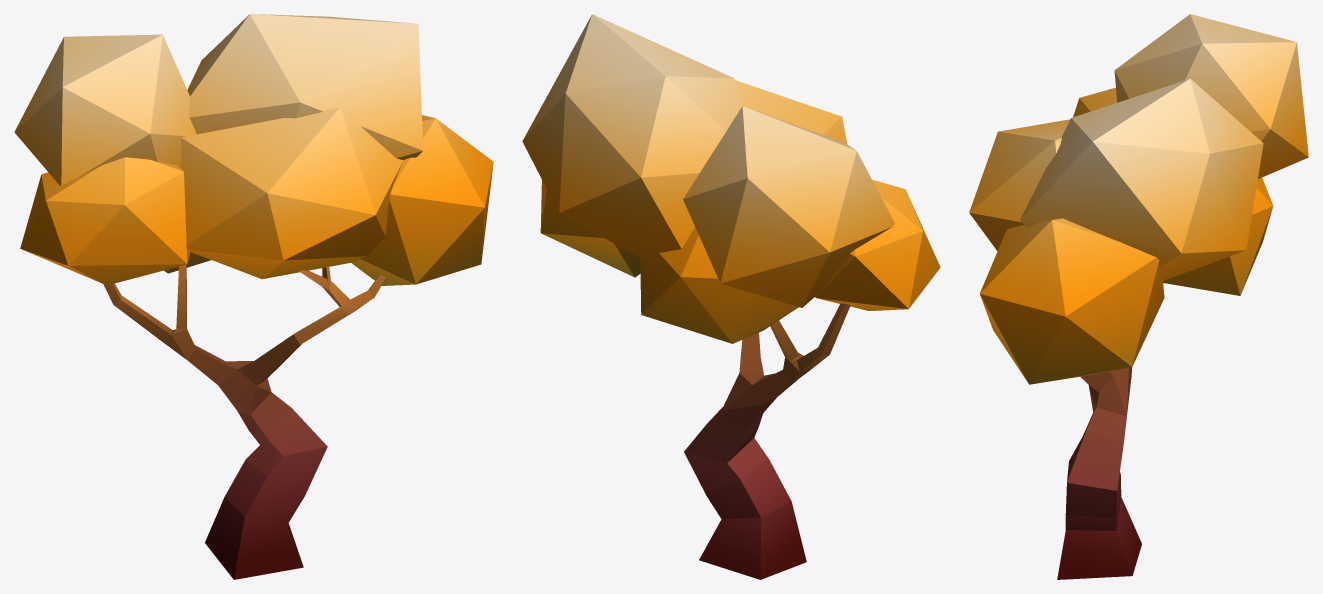
The model's file is Gradient_Tree_Oak_medium_orange.glb.
The picture shows the model from 3 angles, left to right: view 1: azimuth 30°, elevation 25°; view 2: azimuth 150°, elevation 25°; view 3: azimuth 270°, elevation 25°; orthographic projection. The views are drawn at different scales.
Parts seen in each view (by area): view 1: Oak middle orange g; view 2: Oak middle orange g; view 3: Oak middle orange g.
Boxes of the visible parts, x1,y1,x2,y2 form: Oak middle orange g: [14, 14, 493, 579]; Oak middle orange g: [522, 14, 940, 579]; Oak middle orange g: [969, 14, 1308, 579].
Size of the model in its own units: 10.85 by 12.52 by 7.6.
Materials: 1 (1 with a texture image).
